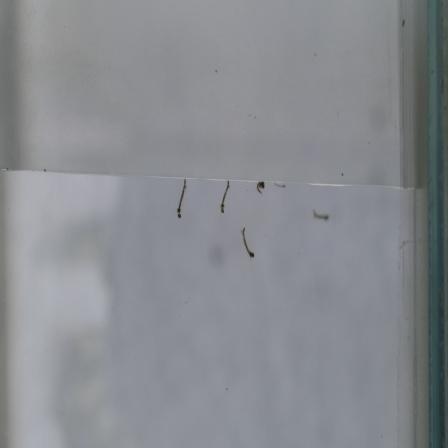Jentik-Nyamuk: (173, 176, 191, 222), (214, 177, 234, 217), (238, 224, 258, 262), (253, 176, 268, 199)
